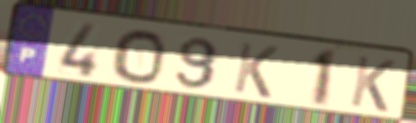1: (309, 47, 344, 111)
4: (56, 20, 101, 79)
9: (176, 36, 221, 92)
K: (230, 39, 281, 100), (347, 53, 398, 114)
O: (111, 28, 168, 86)
